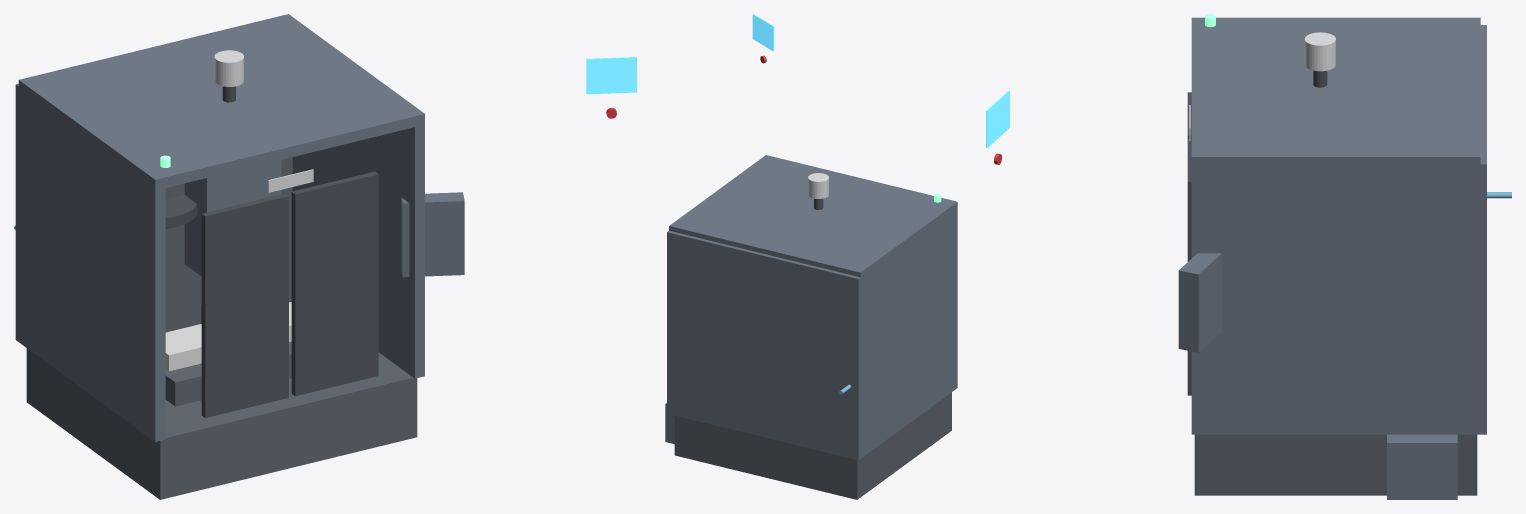
File: vmc_01.glb
3 renders of one model, left to right at view 1: azimuth 30°, elevation 25°; view 2: azimuth 150°, elevation 25°; view 3: azimuth 270°, elevation 25°, orthographic. The views are drawn at different scales.
Visible parts, largest first — view 1: VMC_01_ENCLOSURE_ROOF, VMC_01_ENCLOSURE_LEFT, VMC_01_BASE, VMC_01_DOOR_RIGHT, VMC_01_DOOR_LEFT, VMC_01_ENCLOSURE_RIGHT, VMC_01_CONTROL_PANEL, VMC_01_HEAD, VMC_01_COLUMN, VMC_01_SCREEN, VMC_01_TABLE, VMC_01_SADDLE (+3 smaller); view 2: VMC_01_ENCLOSURE_REAR, VMC_01_ENCLOSURE_ROOF, VMC_01_ENCLOSURE_LEFT, VMC_01_BASE, VMC_01_SCREEN, VMC_01_SPINDLE_NOSE; view 3: VMC_01_ENCLOSURE_RIGHT, VMC_01_ENCLOSURE_ROOF, VMC_01_BASE, VMC_01_COOLANT_TANK, VMC_01_CONTROL_PANEL, VMC_01_ENCLOSURE_REAR, VMC_01_SPINDLE_NOSE, VMC_01_SCREEN, VMC_01_DOOR_RIGHT.
Part boxes in pixels (x1,y1,x2,y2): VMC_01_ENCLOSURE_ROOF: [18, 14, 424, 189]; VMC_01_ENCLOSURE_LEFT: [18, 87, 165, 441]; VMC_01_BASE: [26, 348, 417, 499]; VMC_01_DOOR_RIGHT: [291, 171, 378, 396]; VMC_01_DOOR_LEFT: [201, 193, 288, 418]; VMC_01_ENCLOSURE_RIGHT: [292, 121, 424, 378]; VMC_01_CONTROL_PANEL: [401, 192, 464, 277]; VMC_01_HEAD: [184, 160, 281, 275]; VMC_01_COLUMN: [165, 157, 292, 332]; VMC_01_SCREEN: [586, 57, 636, 94]; VMC_01_TABLE: [165, 302, 291, 371]; VMC_01_SADDLE: [165, 341, 291, 406]; VMC_01_ENCLOSURE_REAR: [667, 230, 862, 460]; VMC_01_ENCLOSURE_ROOF: [669, 155, 957, 277]; VMC_01_ENCLOSURE_LEFT: [860, 207, 957, 458]; VMC_01_BASE: [674, 392, 951, 499]; VMC_01_SCREEN: [752, 14, 774, 51]; VMC_01_SPINDLE_NOSE: [808, 173, 828, 198]; VMC_01_ENCLOSURE_RIGHT: [1191, 164, 1480, 434]; VMC_01_ENCLOSURE_ROOF: [1191, 17, 1480, 167]; VMC_01_BASE: [1194, 434, 1477, 495]; VMC_01_COOLANT_TANK: [1387, 434, 1457, 499]; VMC_01_CONTROL_PANEL: [1178, 253, 1221, 352]; VMC_01_ENCLOSURE_REAR: [1474, 25, 1486, 434]; VMC_01_SPINDLE_NOSE: [1304, 32, 1335, 71]; VMC_01_SCREEN: [986, 90, 1009, 148]; VMC_01_DOOR_RIGHT: [1187, 139, 1191, 395].
Size of the model in its own units: 3 by 3.14 by 3.35.
